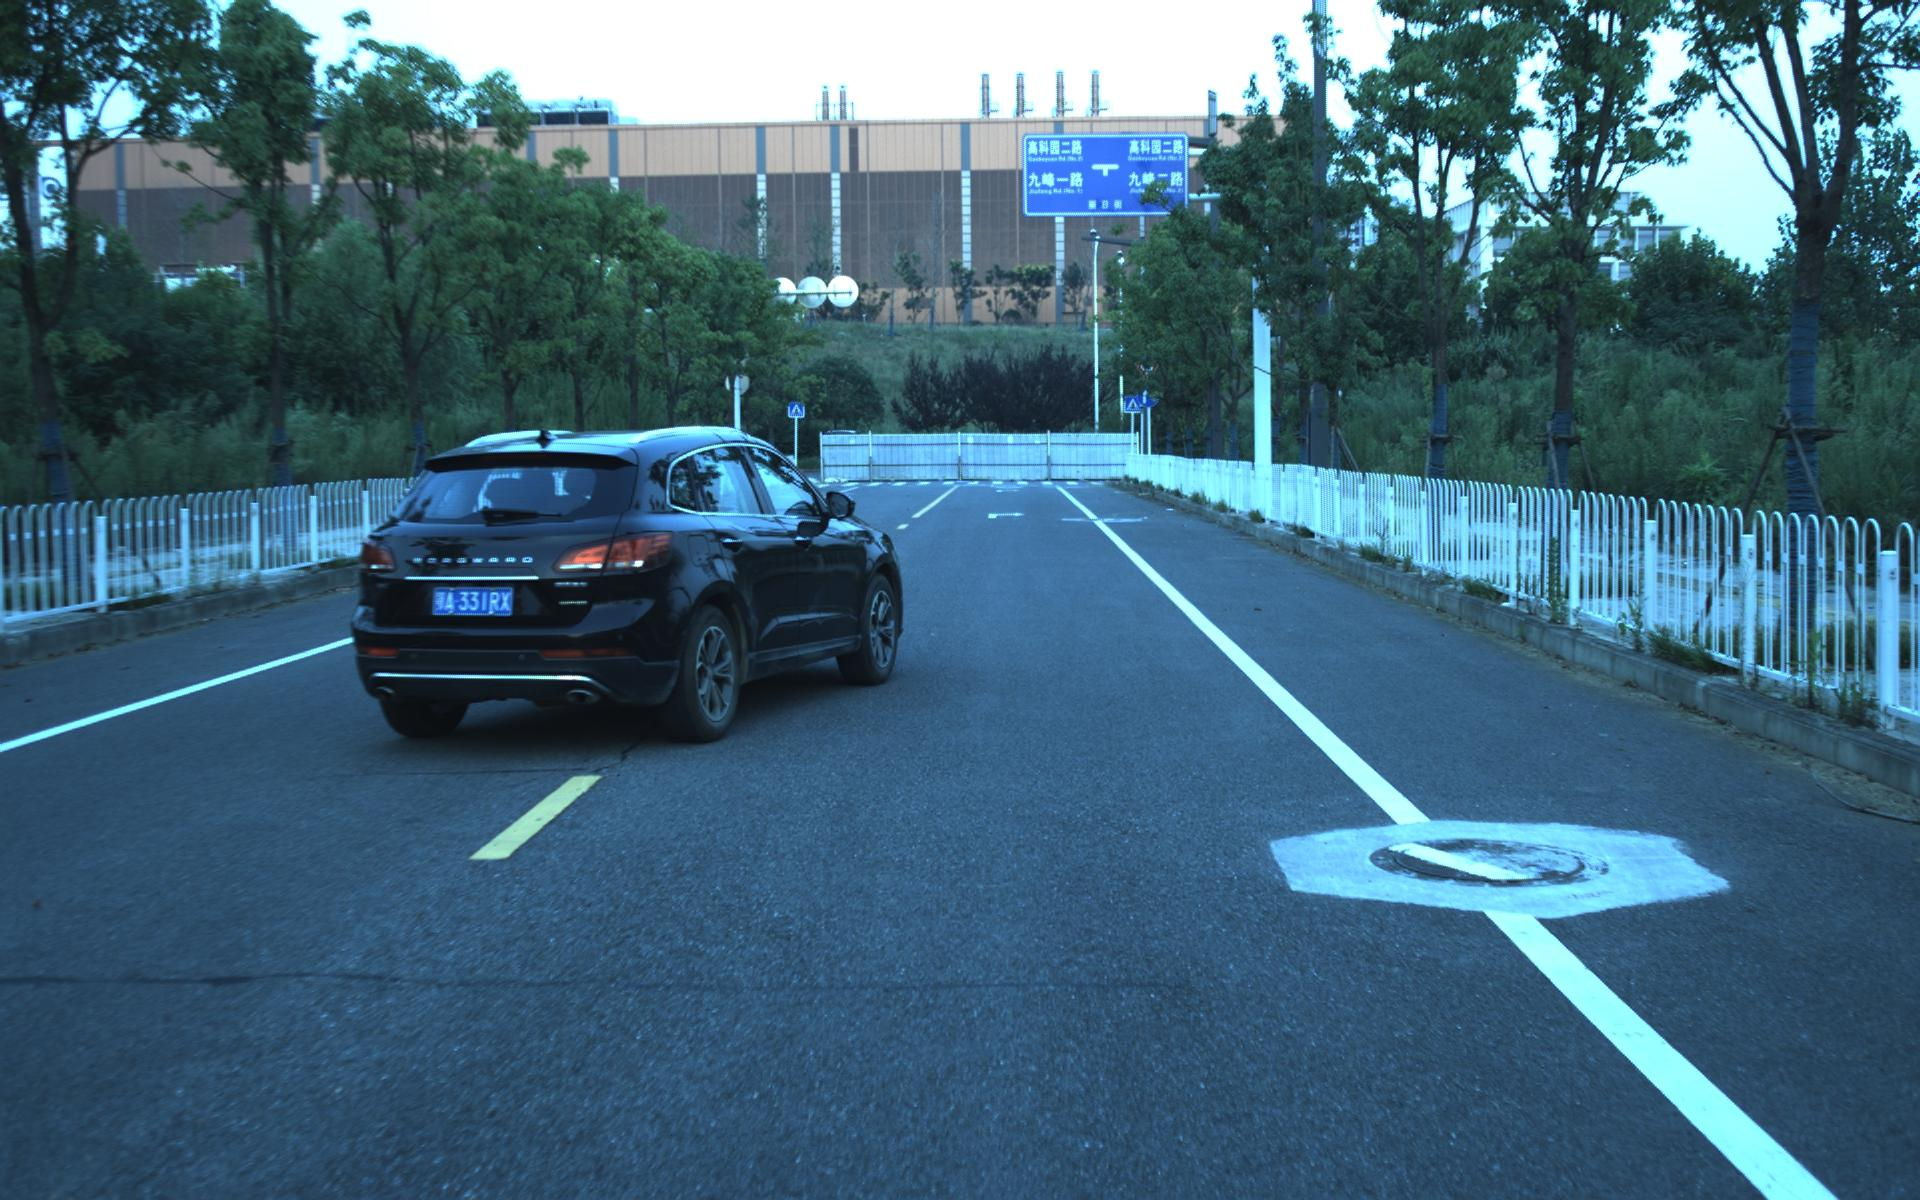Car: (326, 412, 910, 758)
